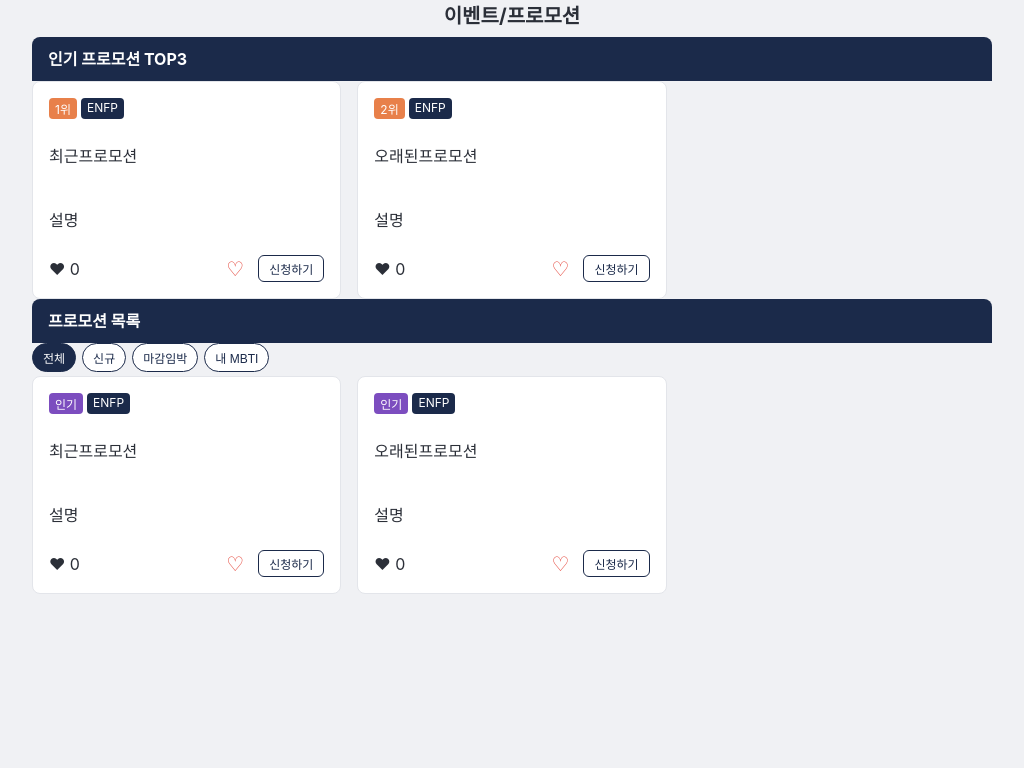
Test case: PromotionListPage › "전체" 버튼을 클릭하면 상태 무관하게 모두 표시된다
This screenshot has width=1024, height=768.
What coordinates should you click on to do the following:
click the button "신규"
I would click on:
 (104, 358)
Its box is [82, 343, 126, 372].
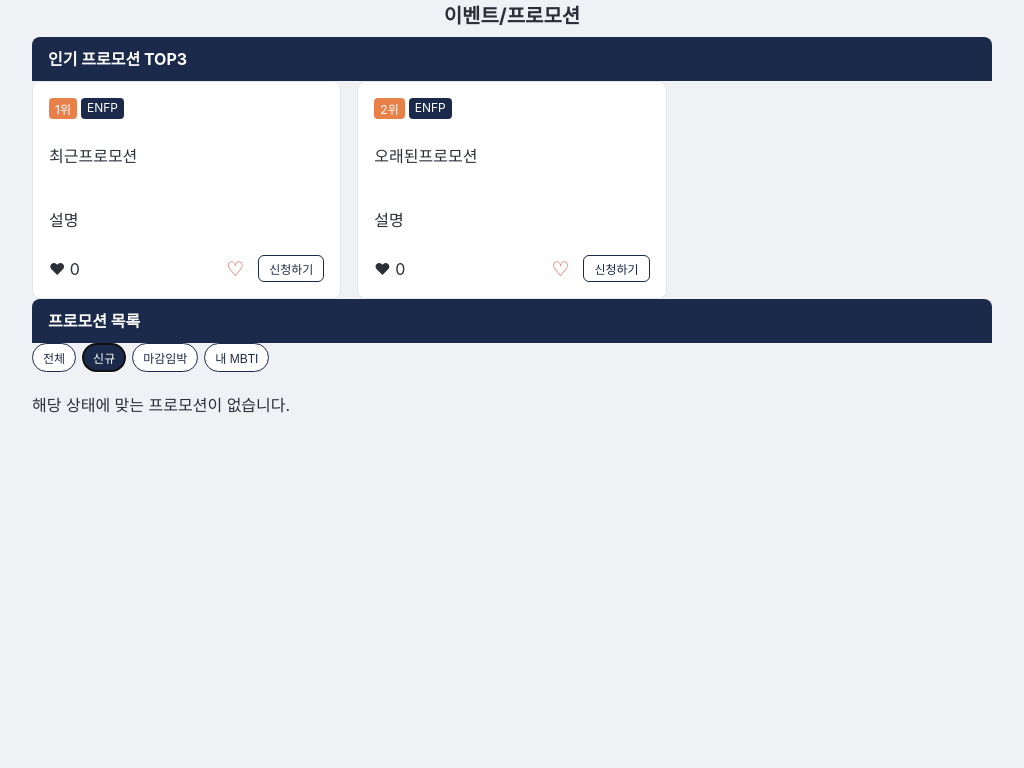
What coordinates should you click on to do the following:
click the button "전체"
I would click on:
 (54, 358)
Its box is [32, 343, 76, 372].
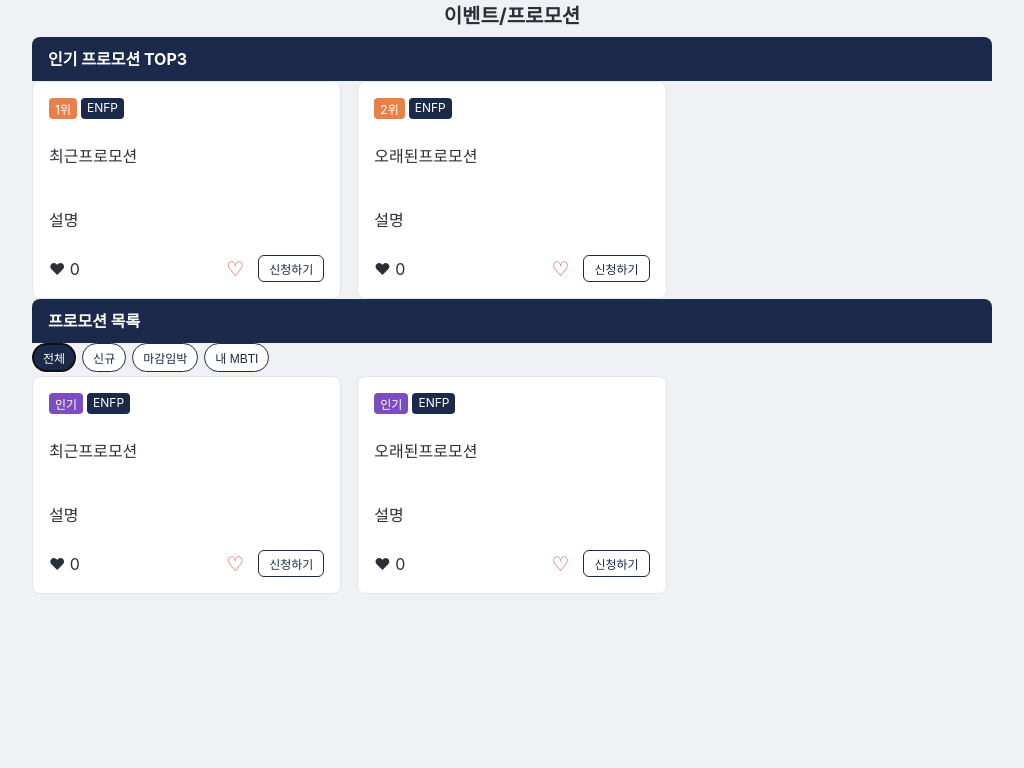
Check: the 2nd text "최근프로모션" is shown, box [49, 441, 137, 461]
Check: the 2nd text "오래된프로모션" is shown, box [374, 441, 477, 461]
